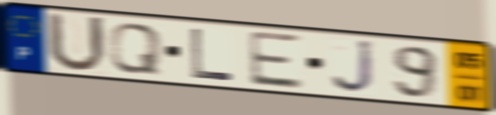9: (390, 44, 440, 100)
E: (245, 29, 306, 91)
J: (329, 38, 378, 96)
L: (188, 26, 235, 84)
Q: (107, 21, 165, 76)
U: (45, 10, 110, 75)
